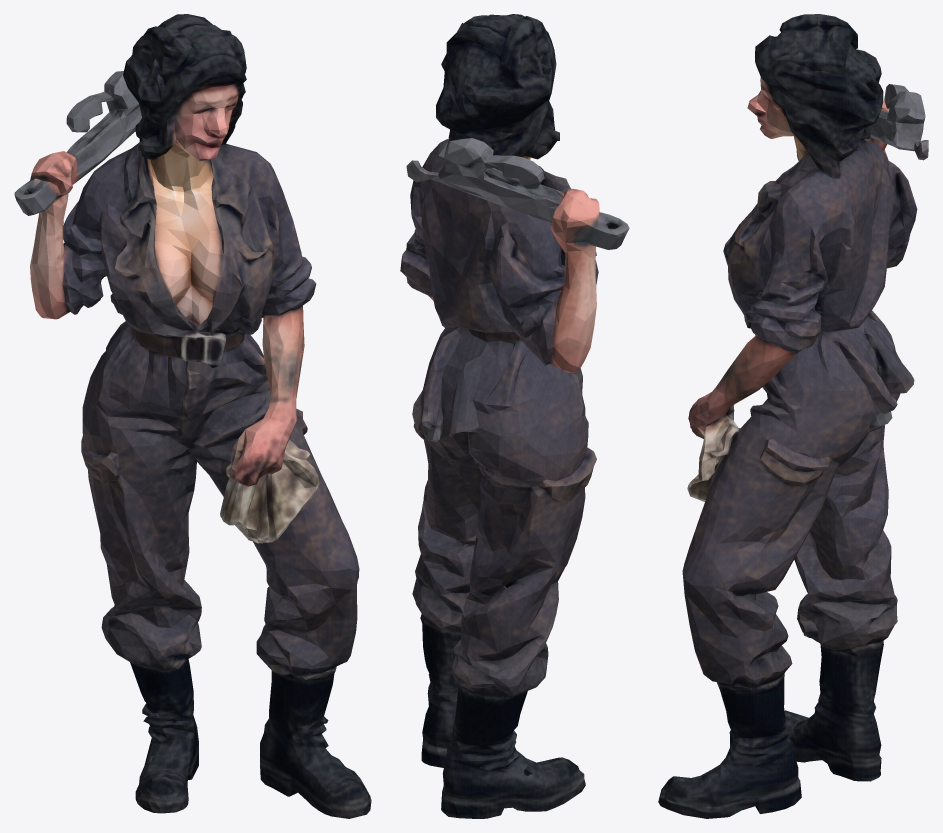
File: crew_su_driver_4_idle.obj
3 renders of one model, left to right at view 1: azimuth 30°, elevation 25°; view 2: azimuth 150°, elevation 25°; view 3: azimuth 270°, elevation 25°, orthographic. The views are drawn at different scales.
Visible parts, largest first — view 1: crew_su_driver_4_idle; view 2: crew_su_driver_4_idle; view 3: crew_su_driver_4_idle.
Part boxes in pixels (left/top/right/bottom): crew_su_driver_4_idle: left=14, top=14, right=371, bottom=818; crew_su_driver_4_idle: left=400, top=14, right=629, bottom=818; crew_su_driver_4_idle: left=658, top=14, right=928, bottom=818.
Bounding box in the file's own units: 0.6398 × 1.75 × 0.5758.
1 material, 1 textured.
